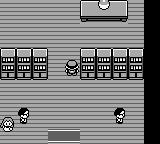main: (64, 61, 78, 76)
no-caminable: (144, 0, 160, 144), (81, 49, 143, 79), (0, 49, 47, 80), (81, 1, 127, 22)
npc: (0, 117, 14, 131), (114, 108, 126, 124), (18, 108, 30, 124)
poke-ball: (98, 0, 110, 9)
puerta: (44, 126, 84, 143)
